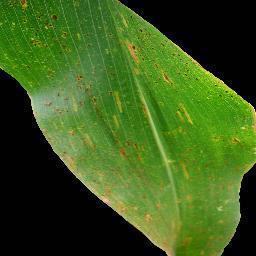Corn_Common_Rust: (126, 27, 256, 111), (149, 110, 202, 256), (83, 68, 127, 225), (16, 82, 81, 186), (0, 0, 82, 82), (202, 163, 244, 256), (126, 140, 149, 232), (204, 126, 256, 160)
